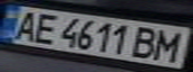1: (109, 21, 133, 56), (93, 20, 115, 53)
4: (54, 16, 81, 48)
6: (75, 18, 96, 52)
A: (6, 8, 42, 42)
B: (127, 25, 163, 60)
E: (27, 11, 63, 45)
M: (148, 28, 187, 63)
